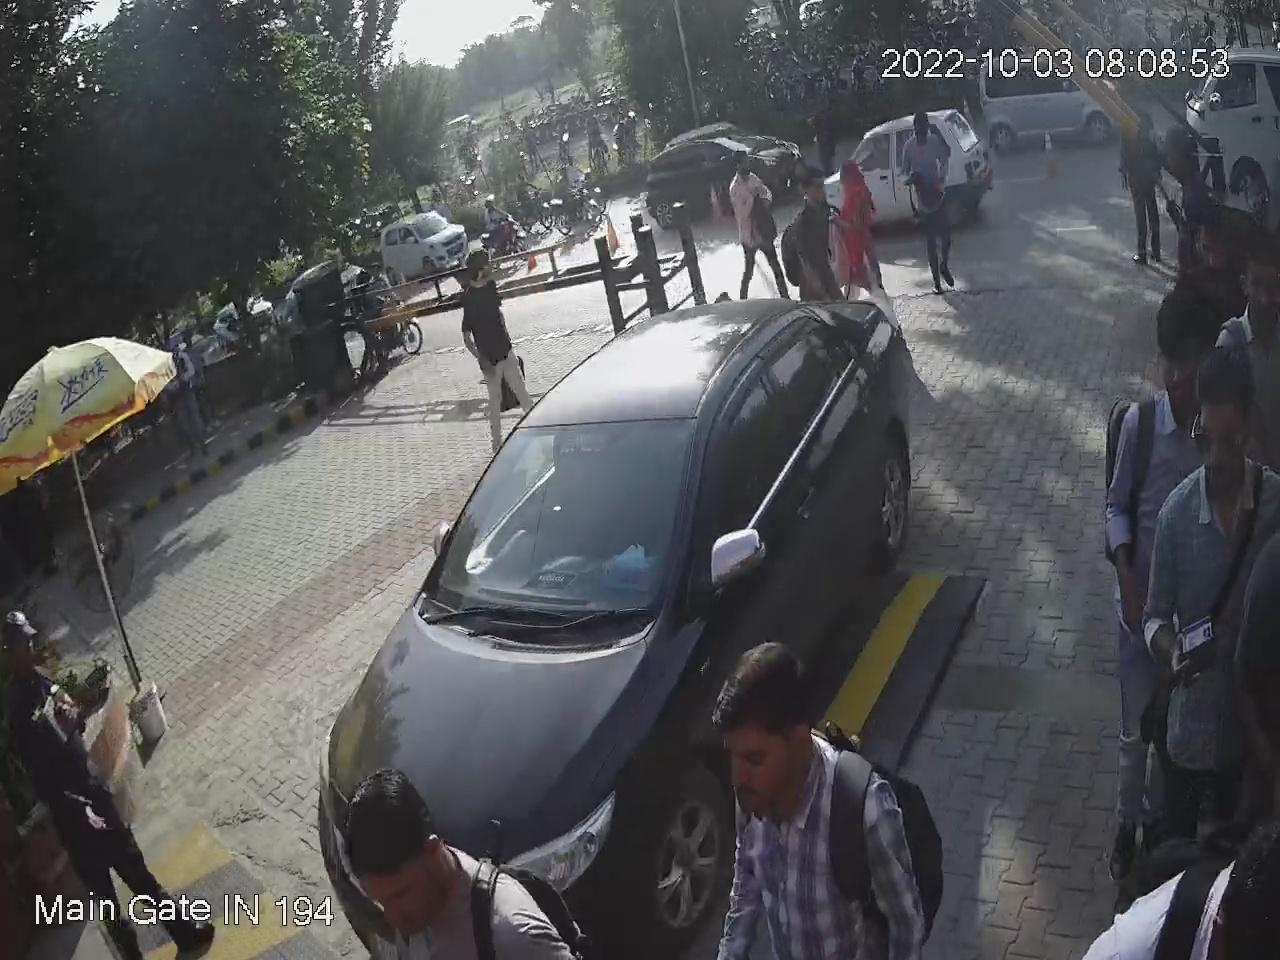windshield: (423, 410, 700, 627)
